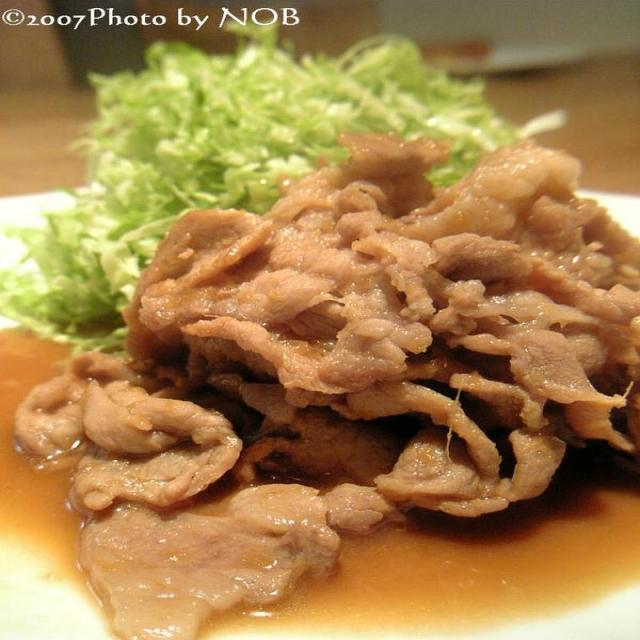猪肉菜式: (0, 128, 640, 640)
